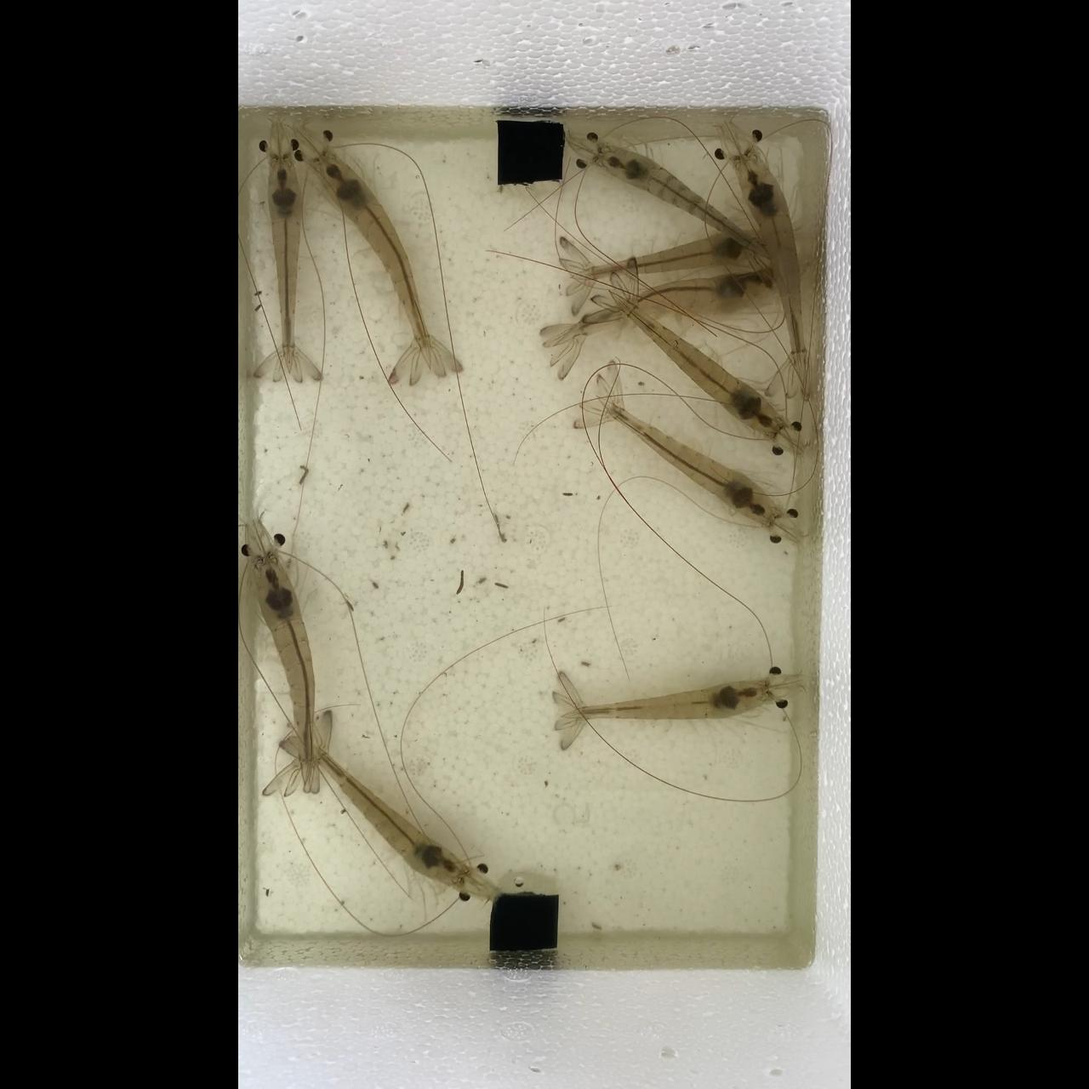box: (497, 120, 565, 185), (489, 892, 559, 954)
top_shrimp: (299, 734, 470, 889), (609, 289, 780, 439), (596, 396, 779, 526), (318, 154, 429, 368), (599, 146, 777, 261), (552, 273, 784, 346), (737, 153, 805, 394), (255, 552, 314, 792), (570, 231, 763, 277), (559, 680, 773, 720), (268, 160, 301, 374)
